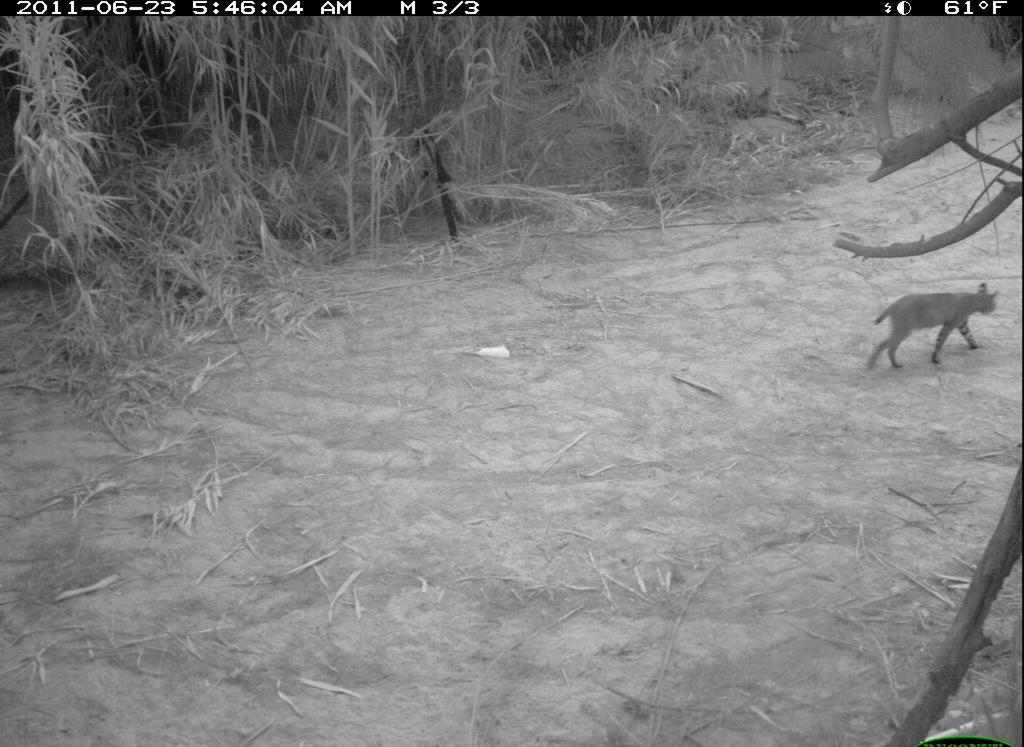bobcat: (862, 274, 1008, 381)
